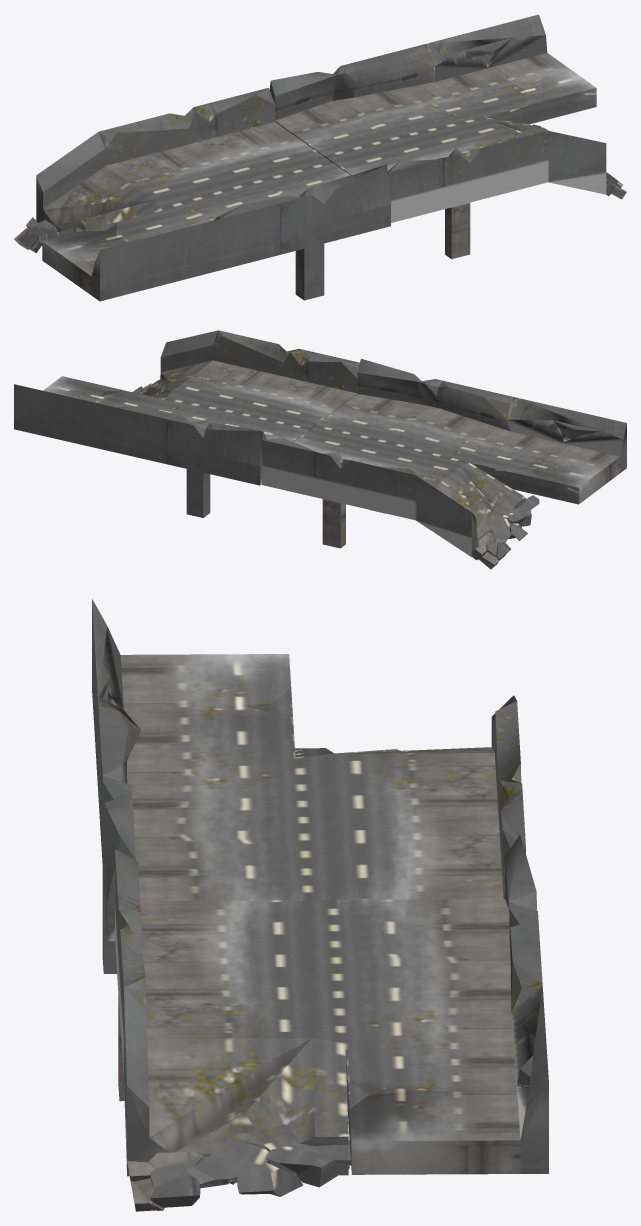
File: bridge.FBX
3 views of the same model, one above another, from view 1: azimuth 30°, elevation 25°; view 2: azimuth 150°, elevation 25°; view 3: azimuth 270°, elevation 25° (orthographic). The views are drawn at different scales.
Visible parts, largest first — view 1: broken_bridge001, broken_bridge002; view 2: broken_bridge001, broken_bridge002; view 3: broken_bridge002, broken_bridge001.
Boxes of the visible parts, x1,y1,x2,y2 form: broken_bridge001: (14, 88, 390, 301); broken_bridge002: (269, 14, 626, 259); broken_bridge001: (262, 358, 626, 569); broken_bridge002: (14, 330, 359, 517); broken_bridge002: (115, 834, 548, 1211); broken_bridge001: (92, 599, 525, 973).
Bounding box in the file's own units: 1761 × 329 × 696.
Materials: 2 (2 with a texture image).
